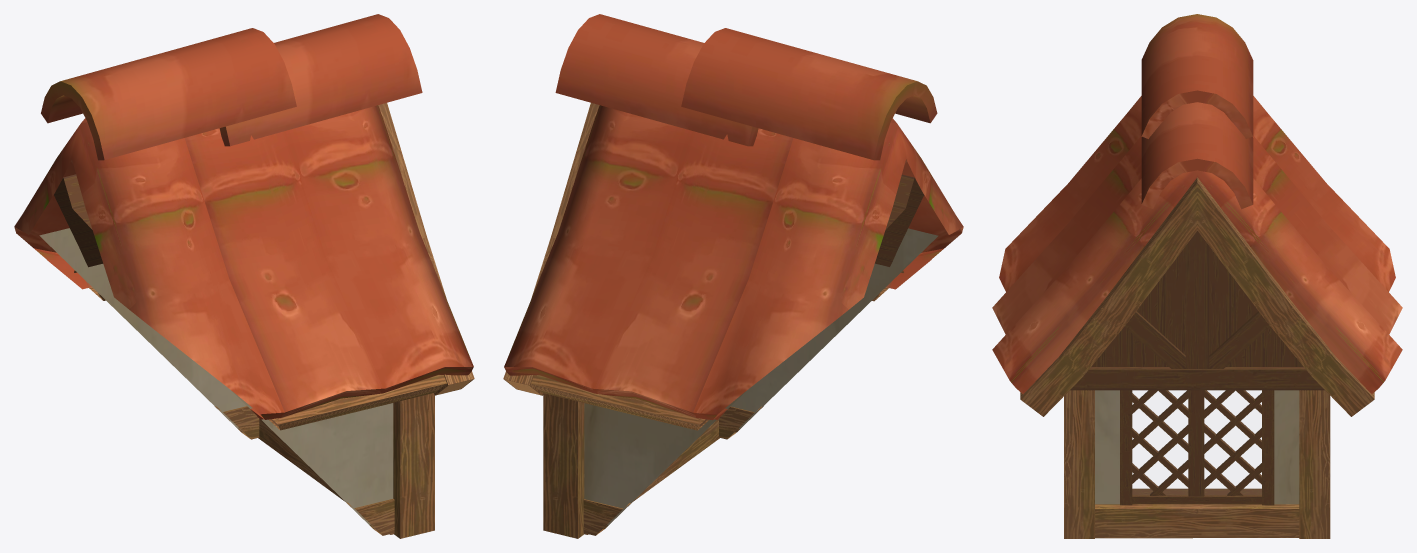
The model's file is Roof_Dormer_RoundTile.gltf.
3 views of the same model, side by side, from view 1: azimuth 30°, elevation 25°; view 2: azimuth 150°, elevation 25°; view 3: azimuth 270°, elevation 25° (orthographic). The views are drawn at different scales.
Visible parts, largest first — view 1: Roof_Dormer_RoundTile; view 2: Roof_Dormer_RoundTile; view 3: Roof_Dormer_RoundTile.
Boxes of the visible parts, box(x1,y1,x2,y2) form: Roof_Dormer_RoundTile: box(14, 14, 474, 538); Roof_Dormer_RoundTile: box(503, 14, 963, 538); Roof_Dormer_RoundTile: box(992, 14, 1402, 538).
Size of the model in its own units: 1.97 by 2.67 by 2.44.
Materials: 4 (3 with a texture image).
